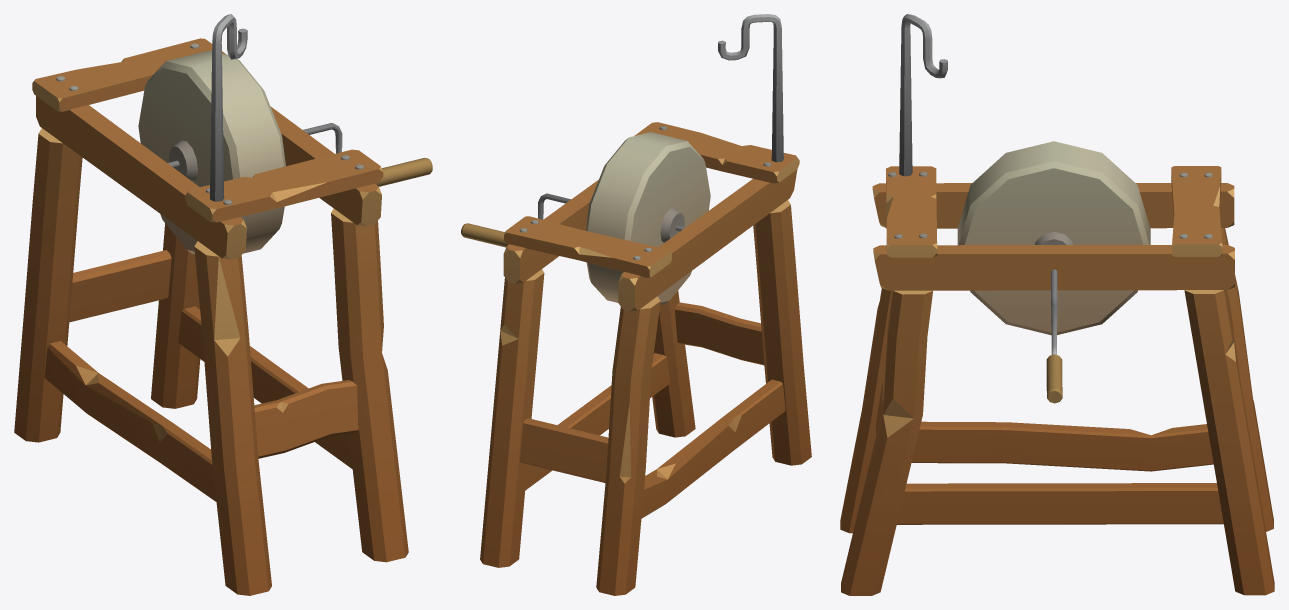
Rendered from Grinder_C.glb.
3 views of the same model, side by side, from view 1: azimuth 30°, elevation 25°; view 2: azimuth 150°, elevation 25°; view 3: azimuth 270°, elevation 25° (orthographic). The views are drawn at different scales.
Parts seen in each view (by area): view 1: Grinder_C; view 2: Grinder_C; view 3: Grinder_C.
Boxes of the visible parts, x1,y1,x2,y2 form: Grinder_C: [14, 14, 432, 595]; Grinder_C: [461, 14, 811, 595]; Grinder_C: [840, 14, 1274, 595].
Bounding box in the file's own units: 0.9756 × 1.65 × 1.27.
Materials: 2 (2 with a texture image).
